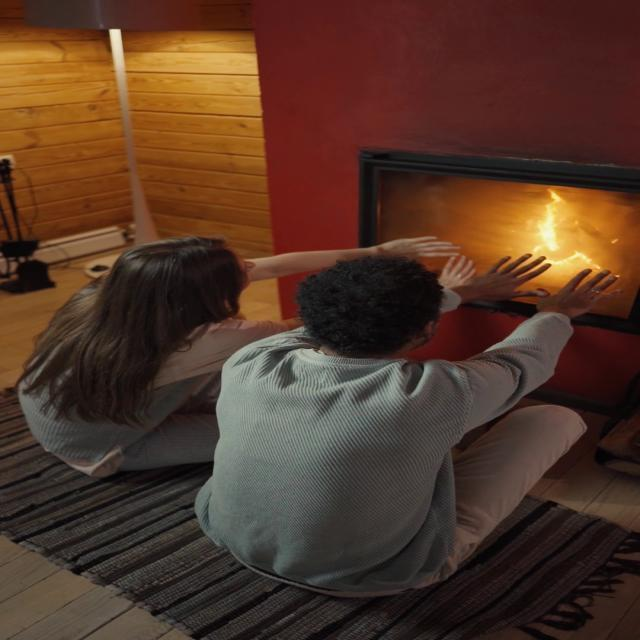Fire: (486, 188, 608, 274)
